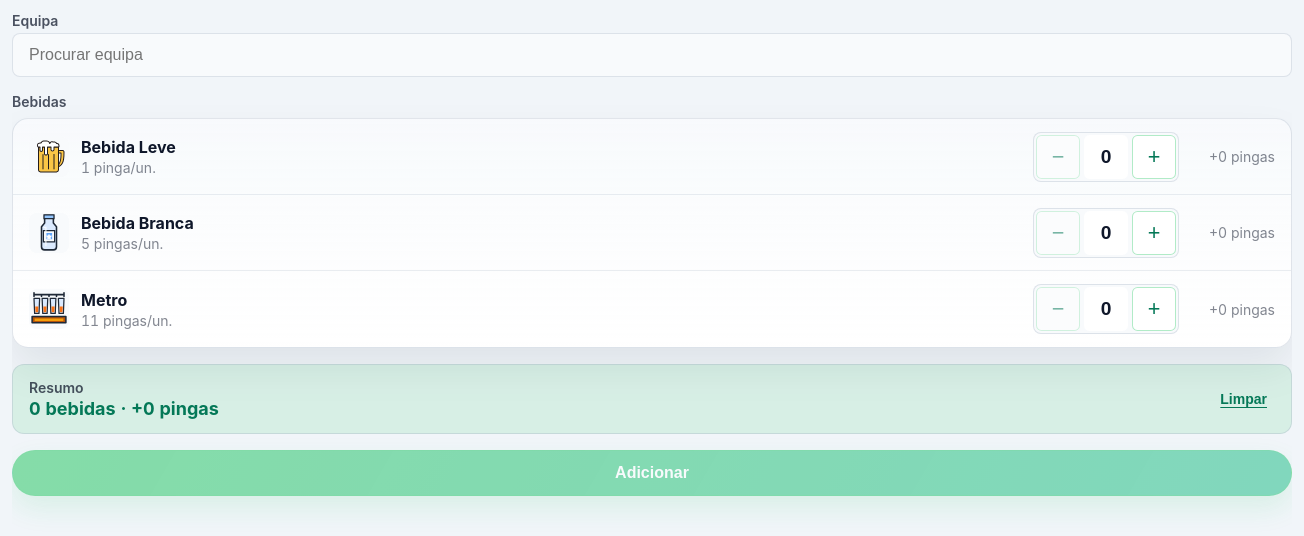
it: AddPingasPanel drinks workflow › derives a mixed-drink total and enables submit only after selecting a team
Click the button named "Aumentar quantidade de Bebida Leve". click: (1154, 156)
box: x1=1132 y1=134 x2=1176 y2=178
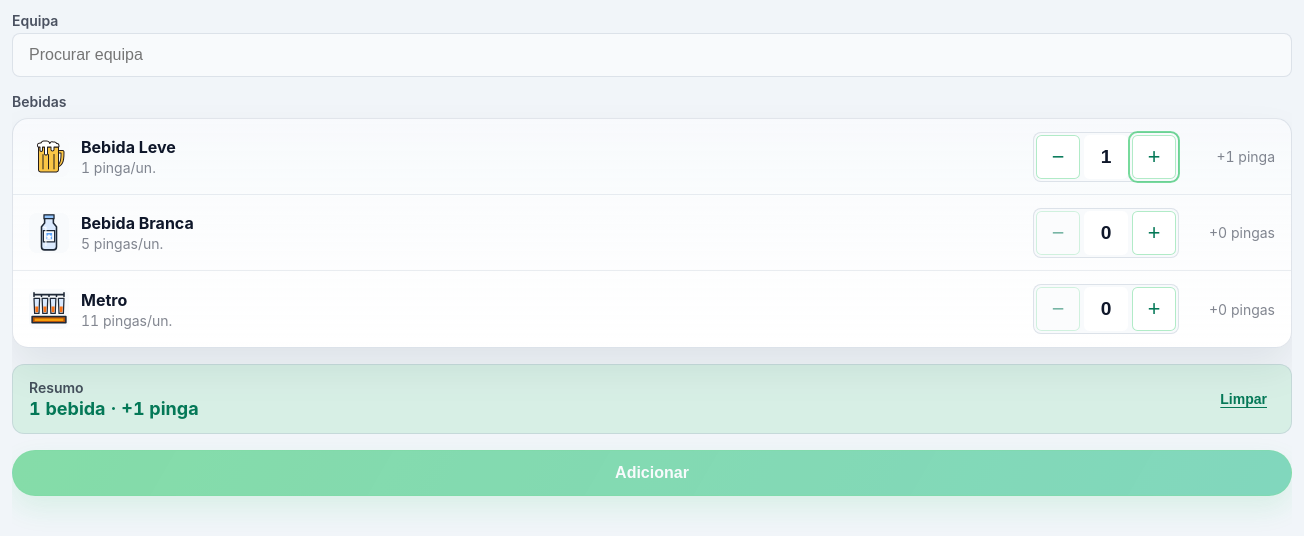
Click the button named "Aumentar quantidade de Bebida Leve". click: (1154, 156)
box: x1=1132 y1=134 x2=1176 y2=178
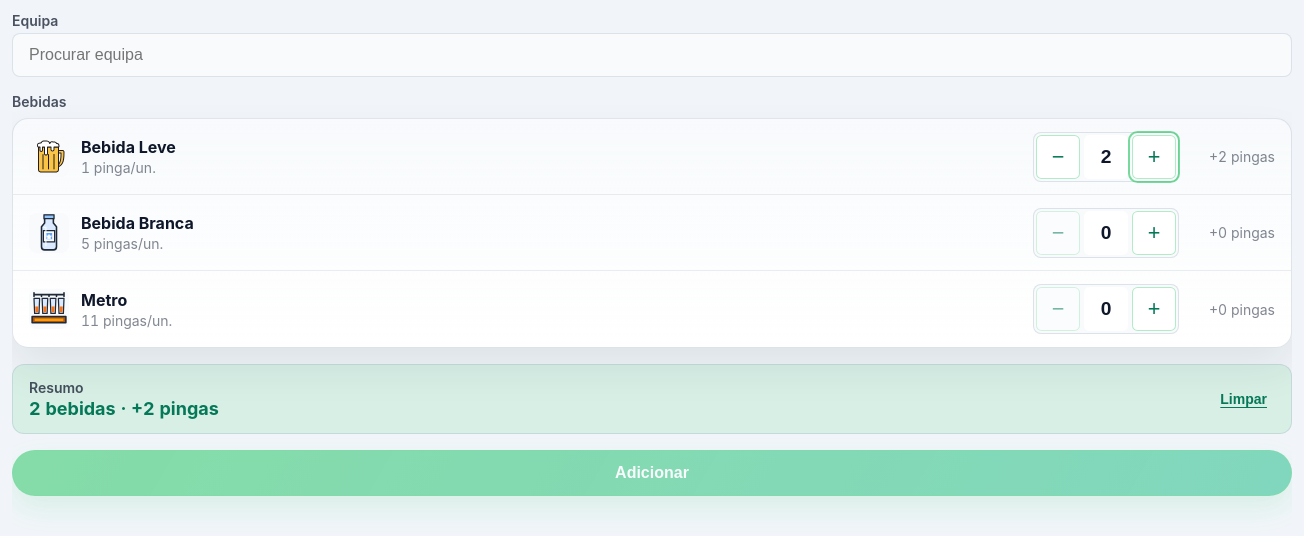
Click the button named "Aumentar quantidade de Bebida Branca". click: (1154, 232)
box: x1=1132 y1=210 x2=1176 y2=254
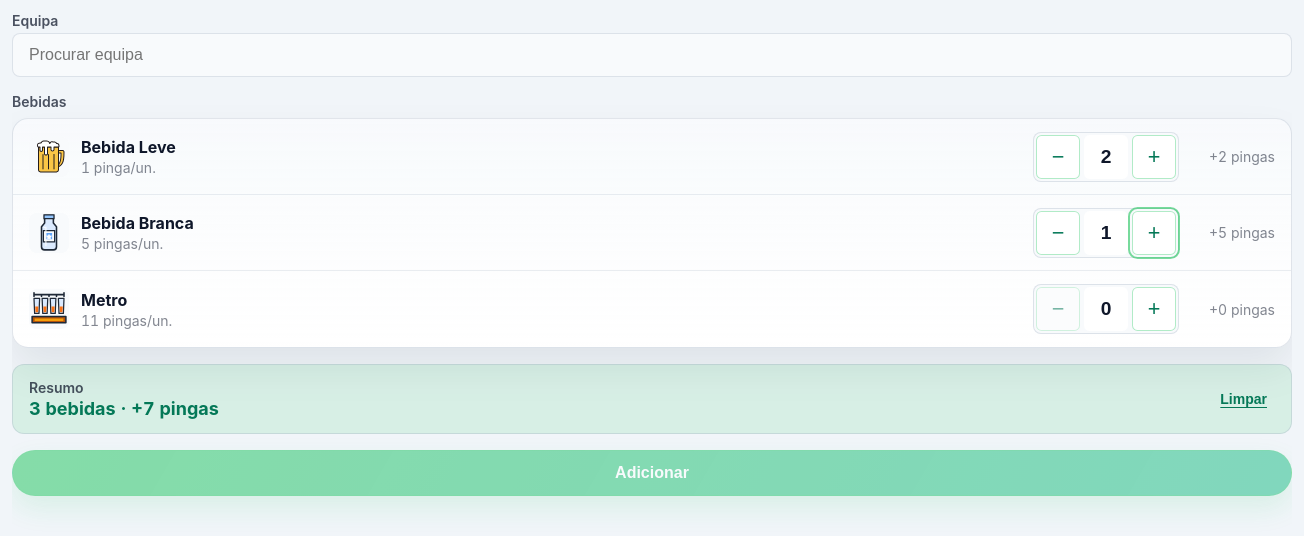
Expected: the text "+2 pingas" is shown, x1=1209 y1=148 x2=1275 y2=165
Expected: the text "3 bebidas · +7 pingas" is shown, x1=29 y1=398 x2=219 y2=419
Expected: the text "+5 pingas" is shown, x1=1209 y1=224 x2=1275 y2=241
Type "Alfa" into the dropdown named "Procurar equipa". click: (652, 55)
box: x1=12 y1=33 x2=1292 y2=77
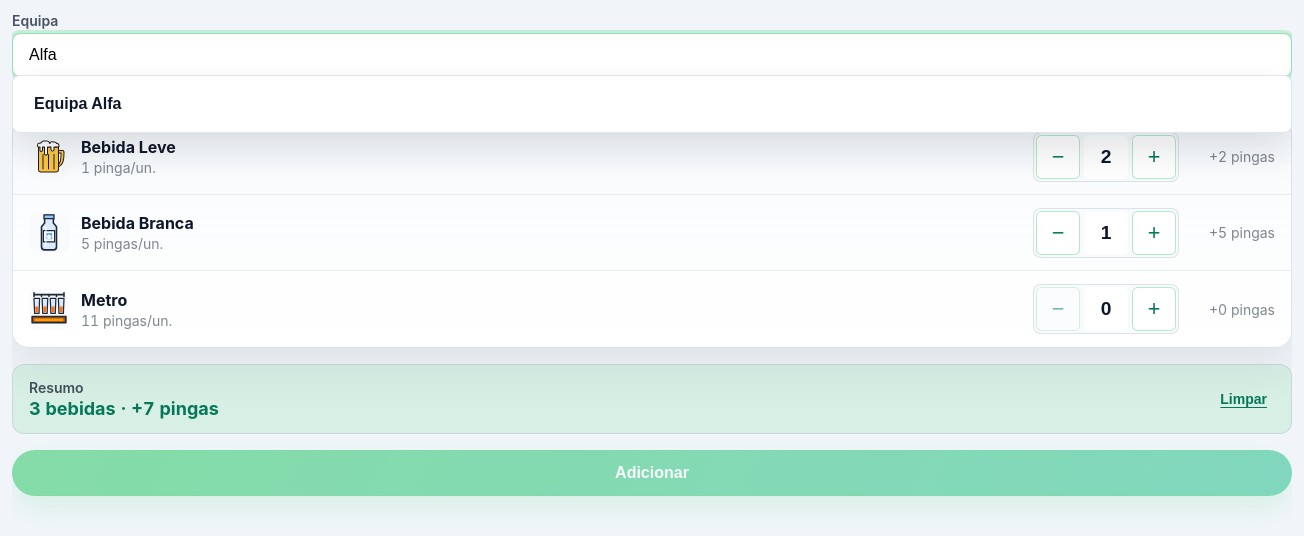
Click the option "Equipa Alfa". click: (78, 104)
box: x1=17 y1=80 x2=1287 y2=128
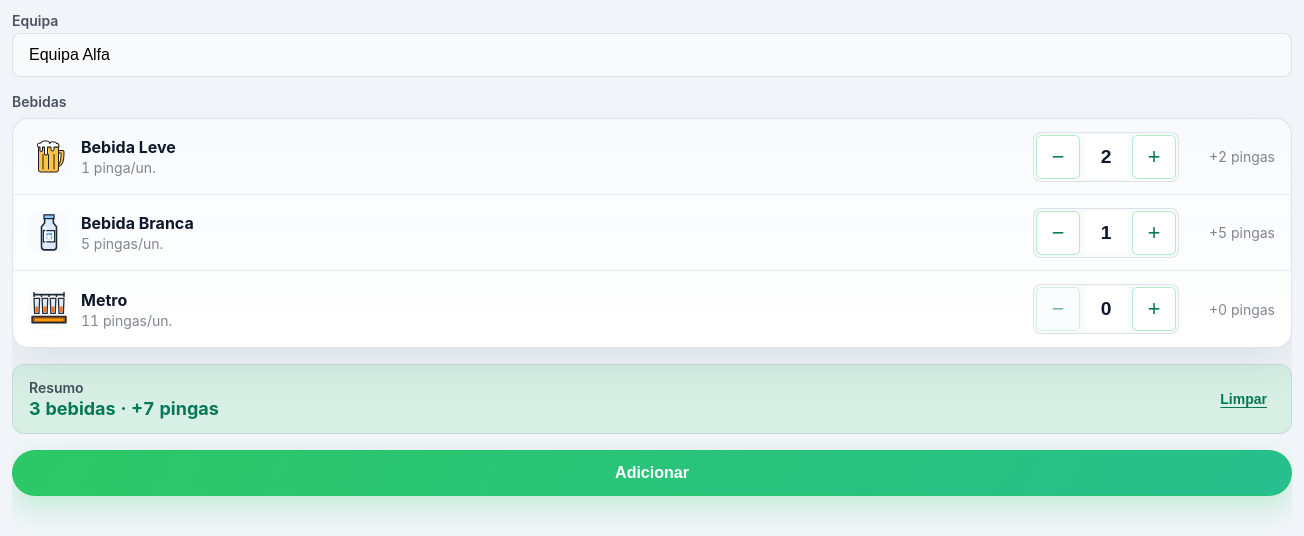
Expected: the button "Adicionar" is enabled, x1=12 y1=450 x2=1292 y2=496
